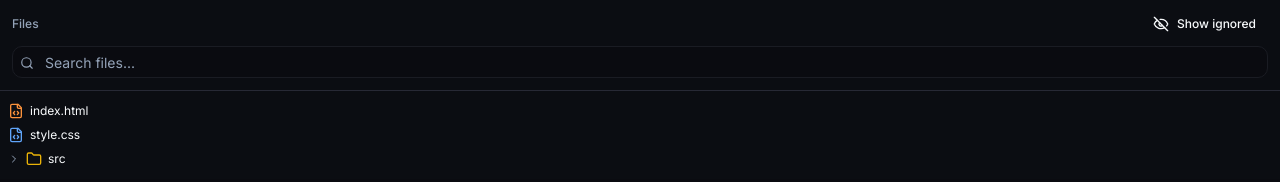
Test: FileTree › filters files by name when search input is used
Expected: the text "index.html" is shown, top-left (30, 103), bottom-right (88, 119)
Expected: the text "style.css" is shown, top-left (30, 127), bottom-right (80, 143)
# Type "index"
Type "index" into the field with placeholder "Search files..." at (640, 62), box top-left (12, 46), bottom-right (1268, 78)
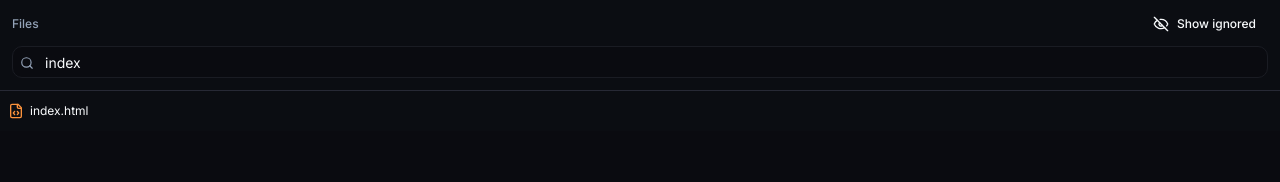
Expected: the text "index.html" is shown, top-left (30, 103), bottom-right (88, 119)
Now the text "style.css" is gone
